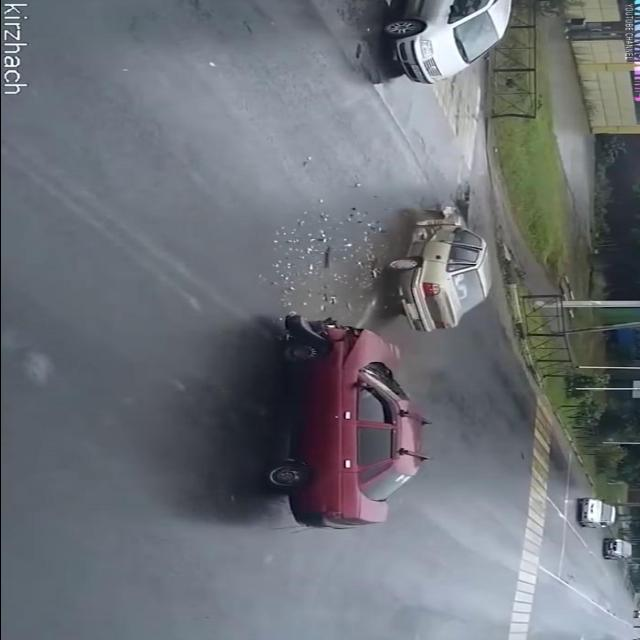accident: (243, 188, 499, 536)
